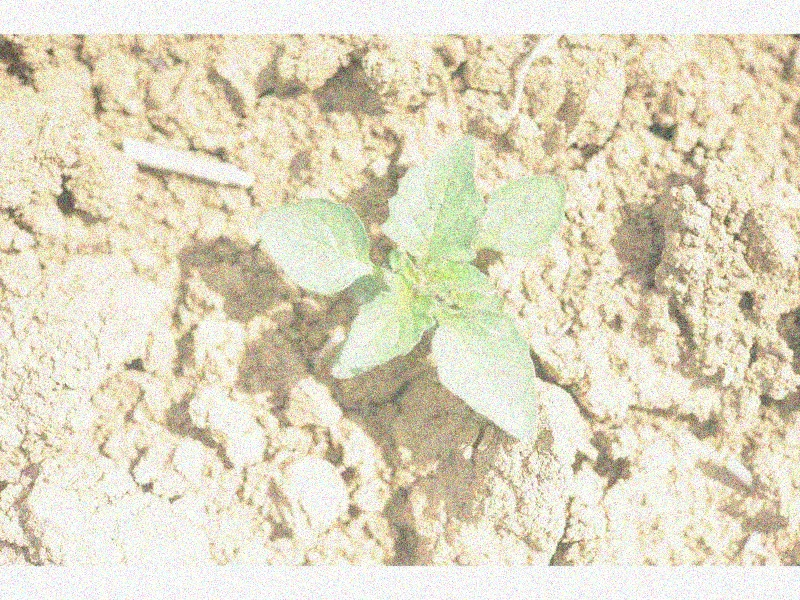nightshade: (255, 134, 564, 444)
